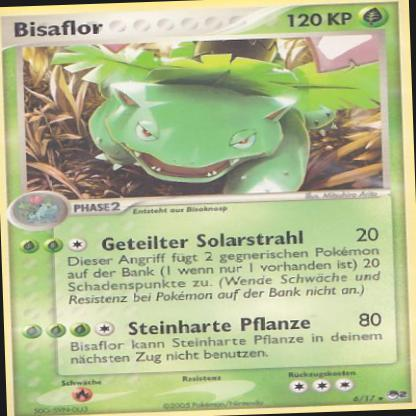Venusaur: (69, 38, 377, 197)
